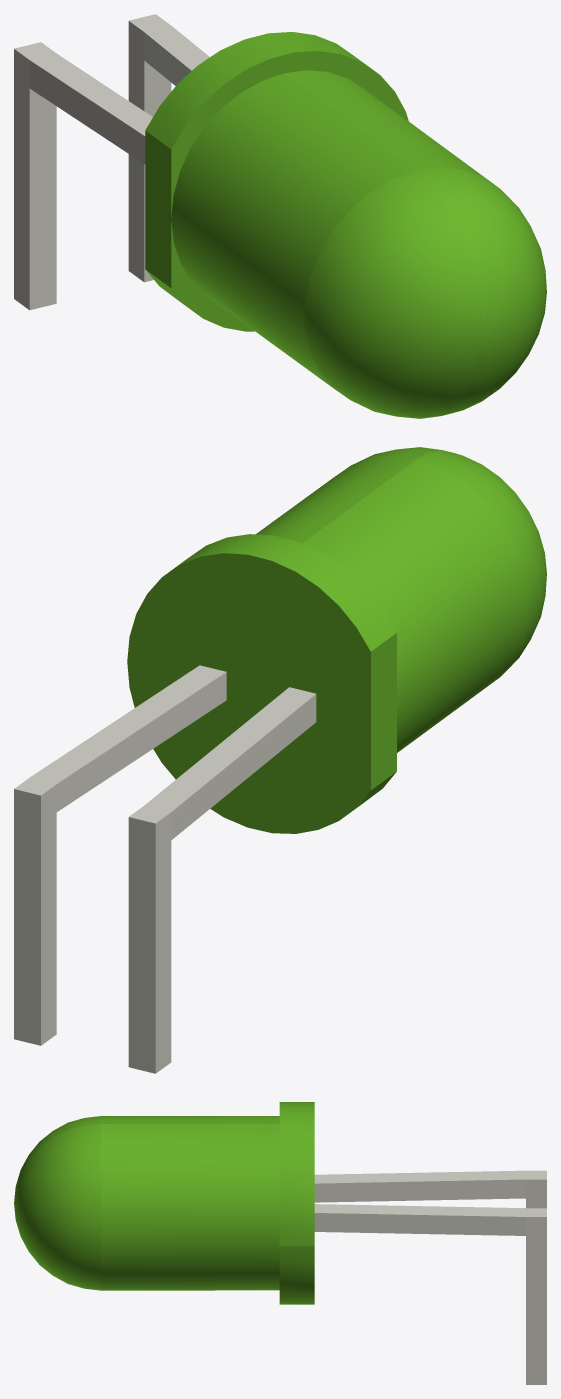
The model's file is kc-led_d5.0mm_horizontal_o6.35mm_z3.0mm.glb.
The picture shows the model from 3 angles, top to bottom: view 1: azimuth 30°, elevation 25°; view 2: azimuth 150°, elevation 25°; view 3: azimuth 270°, elevation 25°; orthographic projection. The views are drawn at different scales.
Parts seen in each view (by area): view 1: 0.16666666666666666_0.4166666666666667_0_0, 0.6666666666666666_0.6666666666666666_0.5833333333333334_0.8; view 2: 0.16666666666666666_0.4166666666666667_0_0, 0.6666666666666666_0.6666666666666666_0.5833333333333334_0.8; view 3: 0.16666666666666666_0.4166666666666667_0_0, 0.6666666666666666_0.6666666666666666_0.5833333333333334_0.8.
Part boxes in pixels (x1,y1,x2,y2): 0.16666666666666666_0.4166666666666667_0_0: [145, 32, 546, 418]; 0.6666666666666666_0.6666666666666666_0.5833333333333334_0.8: [14, 14, 209, 310]; 0.16666666666666666_0.4166666666666667_0_0: [127, 447, 546, 833]; 0.6666666666666666_0.6666666666666666_0.5833333333333334_0.8: [14, 665, 316, 1073]; 0.16666666666666666_0.4166666666666667_0_0: [14, 1102, 314, 1304]; 0.6666666666666666_0.6666666666666666_0.5833333333333334_0.8: [314, 1170, 546, 1384].
Bounding box in the file's own units: 0.54 × 0.7891 × 1.52.
